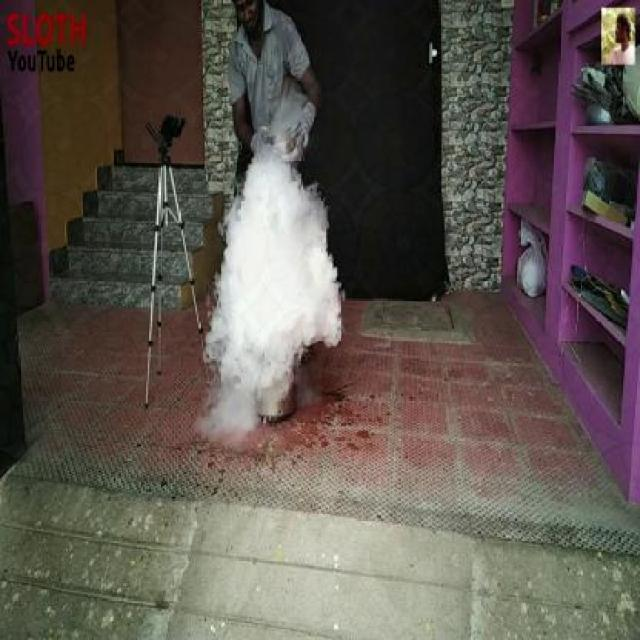smoke: (220, 170, 383, 406)
